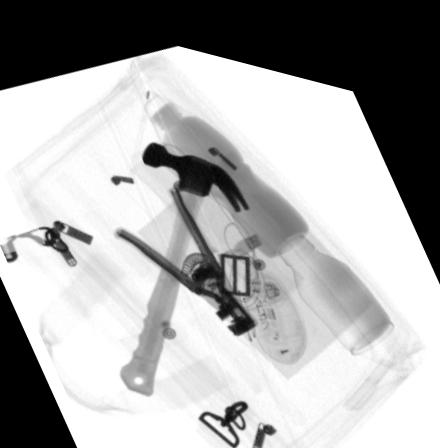Hammer: (117, 132, 249, 389)
Pliers: (112, 176, 260, 324)
